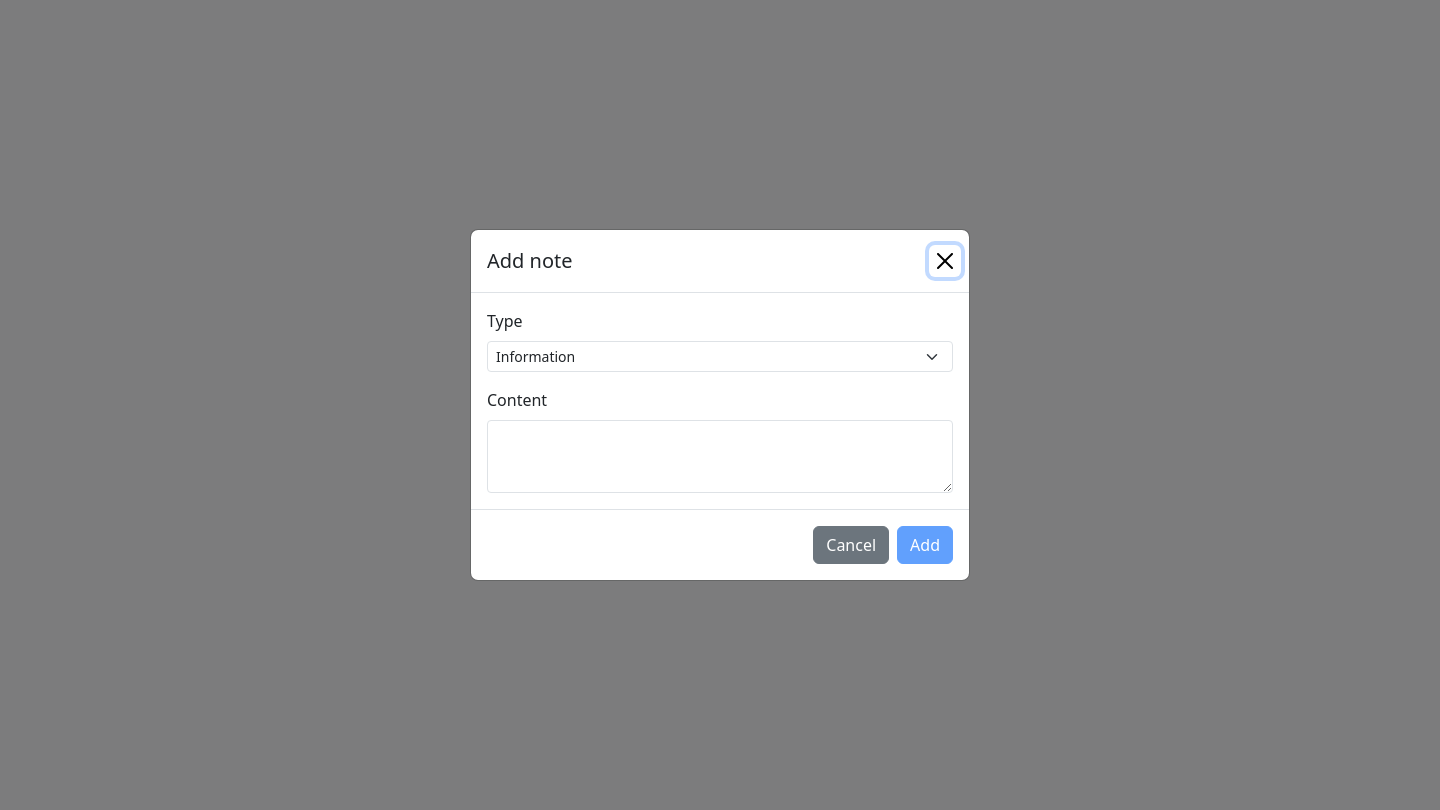
NoteModal › enables Add button when content is filled
Step 1. Type "Some info" into the text box labelled "Content" → x=720, y=456, box [487,420,953,493]
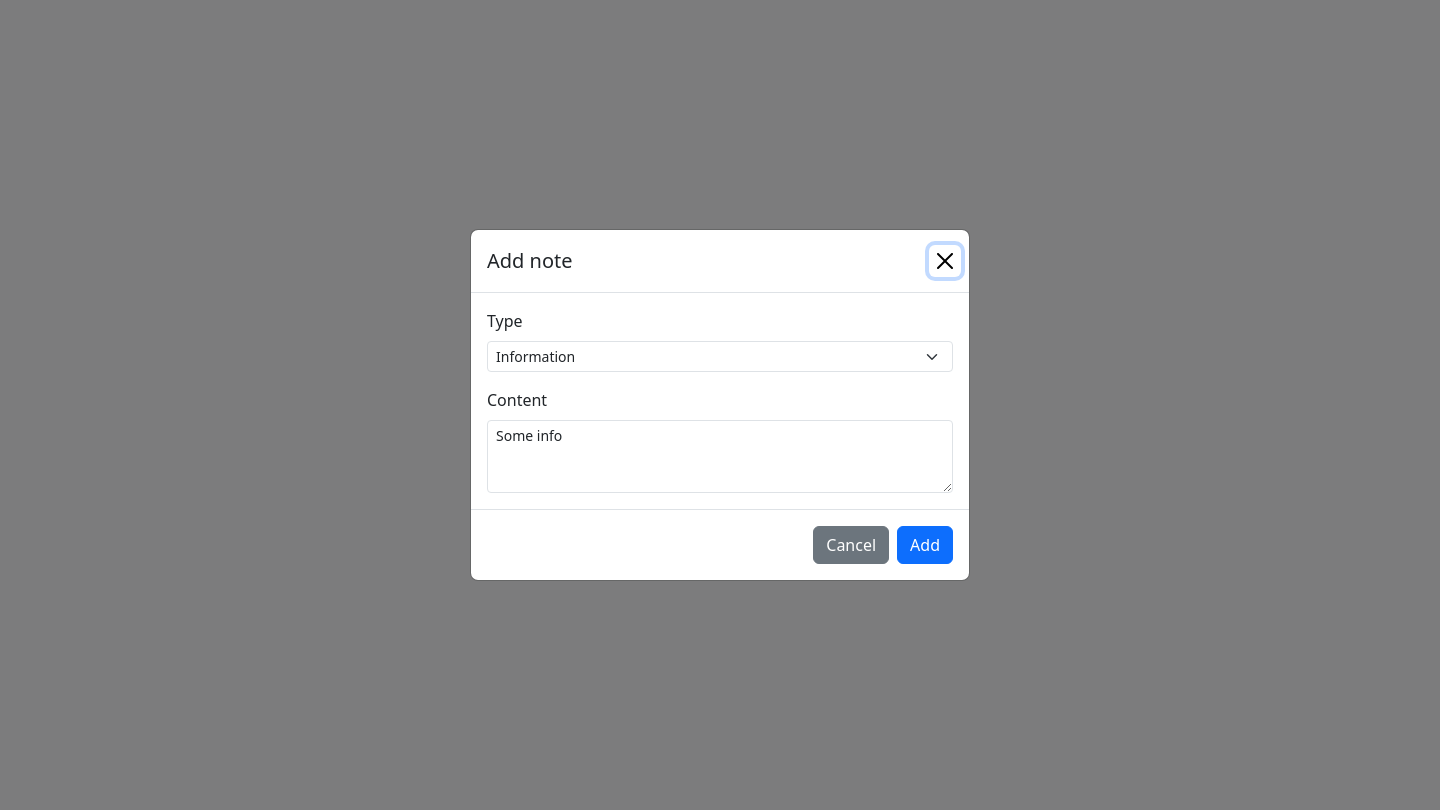
Now the button "Add" is enabled, box [897,526,953,564]
